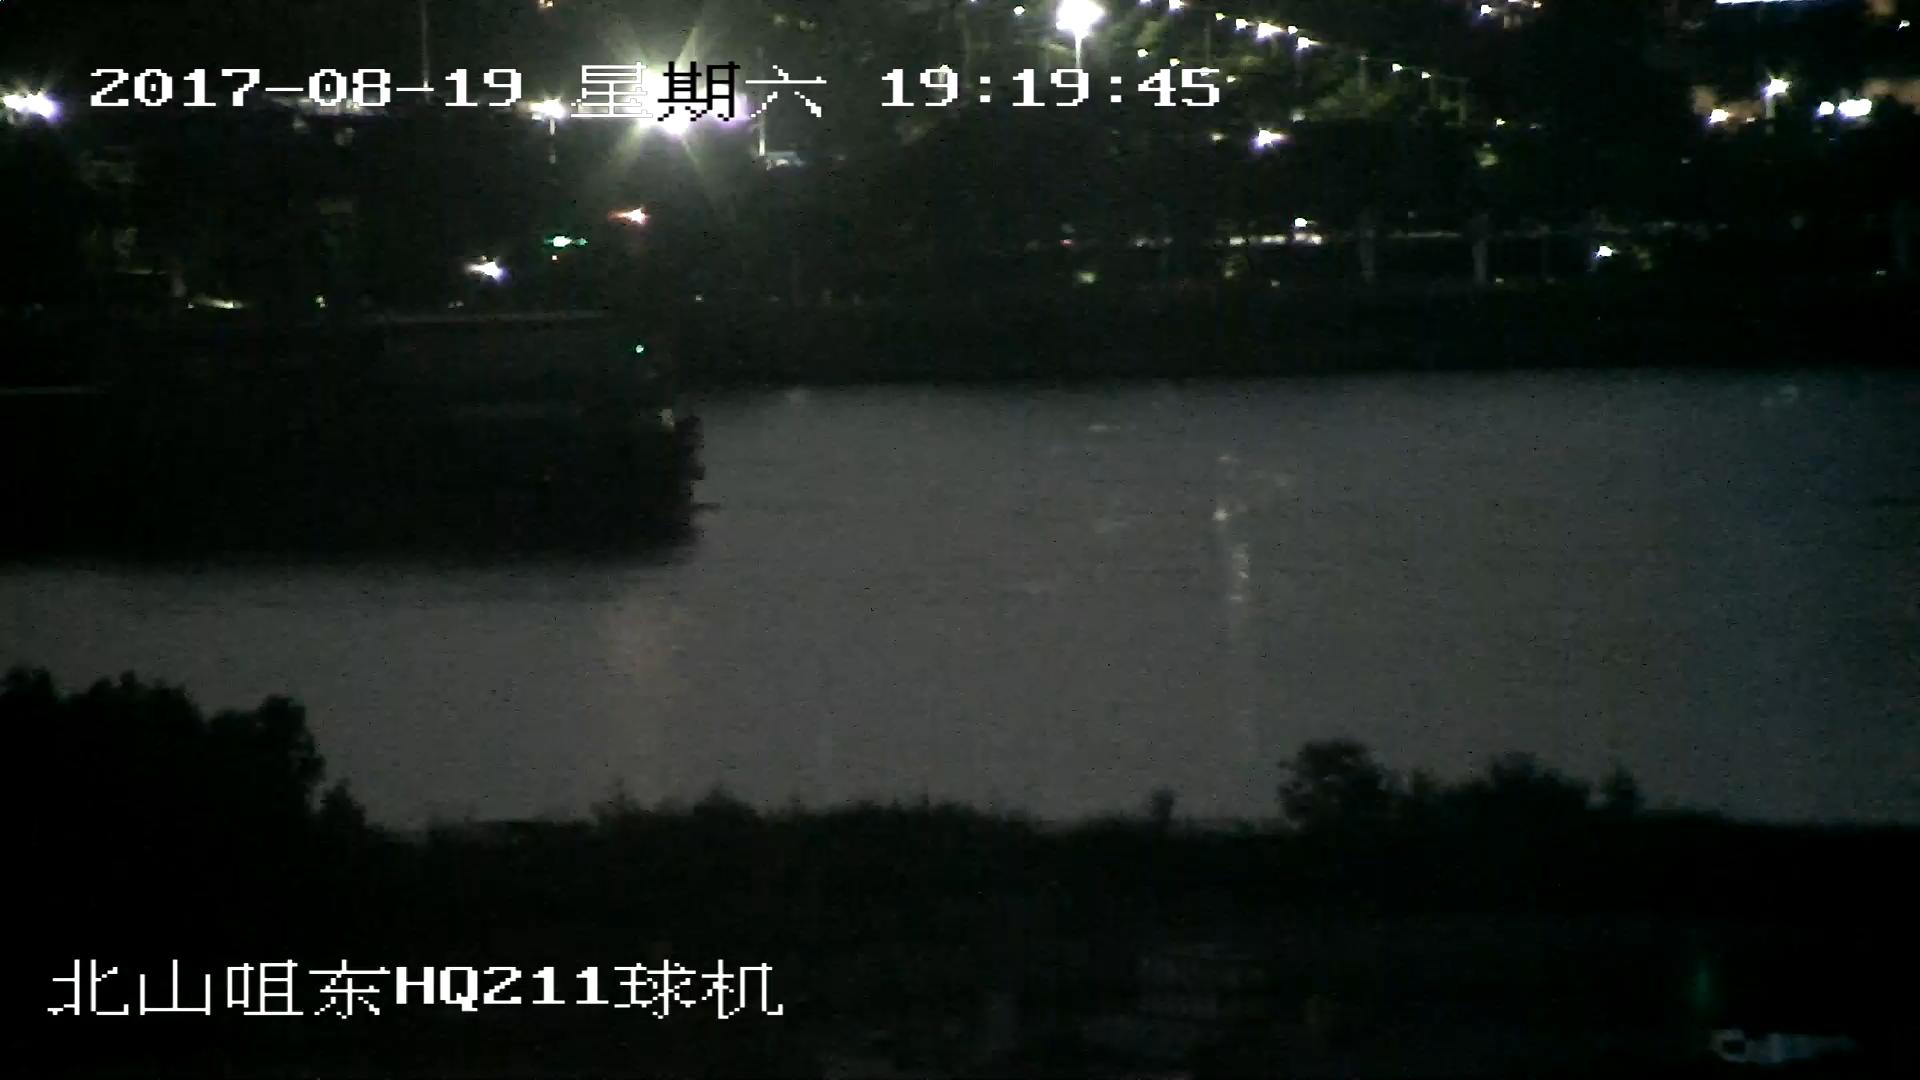container ship: (1, 321, 695, 556)
